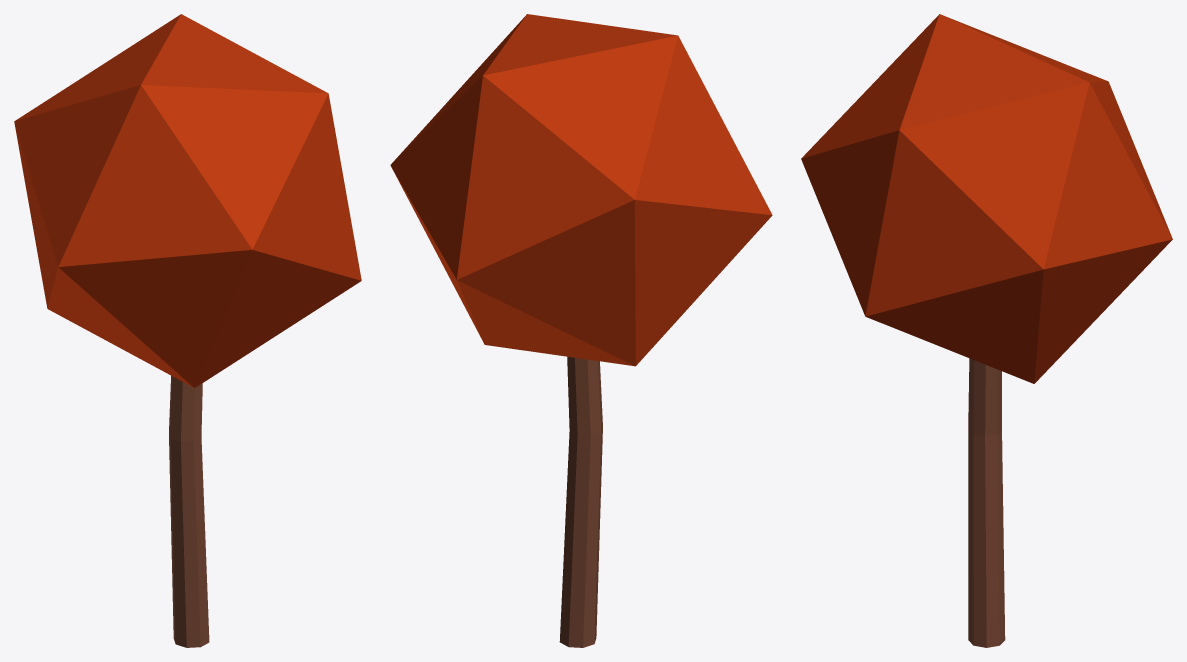
Rendered from Tree_40_summer_red_vc.fbx.
3 renders of one model, left to right at view 1: azimuth 30°, elevation 25°; view 2: azimuth 150°, elevation 25°; view 3: azimuth 270°, elevation 25°, orthographic. The views are drawn at different scales.
Parts seen in each view (by area): view 1: Tree_40_summer_red_vc; view 2: Tree_40_summer_red_vc; view 3: Tree_40_summer_red_vc.
Boxes of the visible parts, bbox=[...] form: Tree_40_summer_red_vc: bbox=[14, 14, 361, 647]; Tree_40_summer_red_vc: bbox=[390, 14, 772, 647]; Tree_40_summer_red_vc: bbox=[801, 14, 1172, 647].
Size of the model in its own units: 110 by 196 by 112.
